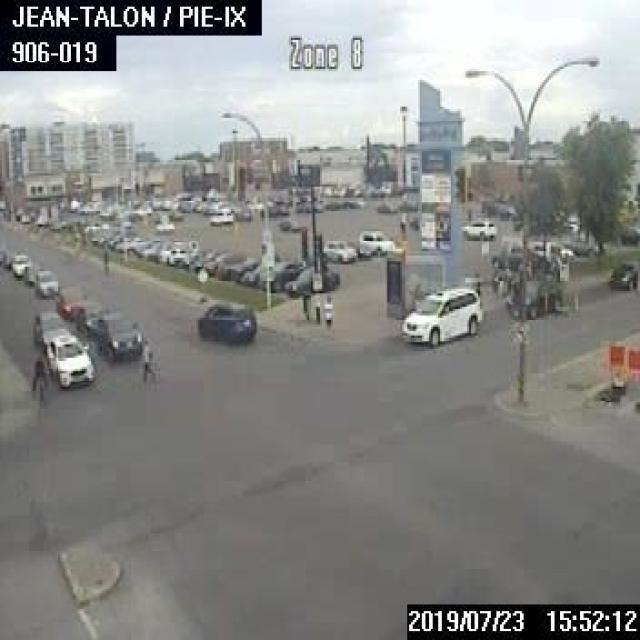construction: (606, 340, 638, 402)
pedestrian: (29, 347, 49, 400), (139, 337, 153, 380), (322, 292, 331, 329), (100, 244, 109, 274), (301, 289, 309, 320), (398, 210, 406, 230)
vehicle: (402, 285, 481, 344), (46, 334, 94, 386), (198, 300, 256, 343), (507, 273, 560, 320), (95, 311, 144, 359), (285, 263, 338, 296), (346, 227, 394, 254), (73, 301, 110, 336), (257, 262, 303, 290), (491, 244, 531, 271), (528, 239, 570, 262), (55, 285, 85, 317), (32, 312, 62, 343), (38, 327, 70, 356), (609, 260, 638, 289), (322, 238, 356, 262), (565, 234, 600, 256), (461, 217, 495, 238), (229, 256, 259, 279), (33, 269, 58, 296), (480, 197, 514, 216), (202, 251, 231, 273), (188, 246, 216, 268), (614, 223, 638, 244), (208, 207, 232, 225), (21, 262, 41, 283), (242, 263, 261, 283), (10, 253, 28, 274), (396, 193, 416, 210), (276, 216, 299, 229), (375, 197, 395, 211), (232, 204, 249, 218), (217, 258, 230, 276), (2, 247, 12, 266), (155, 220, 173, 230)
